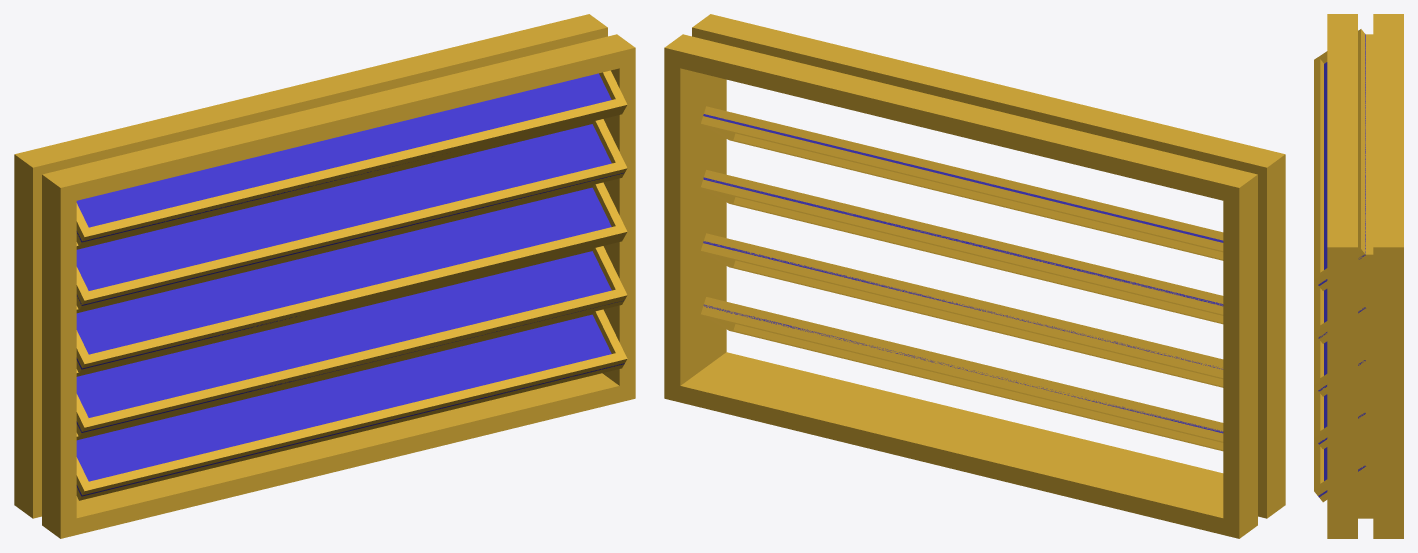
The model's file is 2ndBankAwningWindow.FBX.
3 views of the same model, side by side, from view 1: azimuth 30°, elevation 25°; view 2: azimuth 150°, elevation 25°; view 3: azimuth 270°, elevation 25° (orthographic). The views are drawn at different scales.
Parts seen in each view (by area): view 1: 2ndBankAwningWindow; view 2: 2ndBankAwningWindow; view 3: 2ndBankAwningWindow.
Boxes of the visible parts, bbox=[...] form: 2ndBankAwningWindow: bbox=[14, 14, 635, 538]; 2ndBankAwningWindow: bbox=[664, 14, 1285, 538]; 2ndBankAwningWindow: bbox=[1314, 14, 1403, 538].
Bounding box in the file's own units: 183 × 107 × 29.81.
